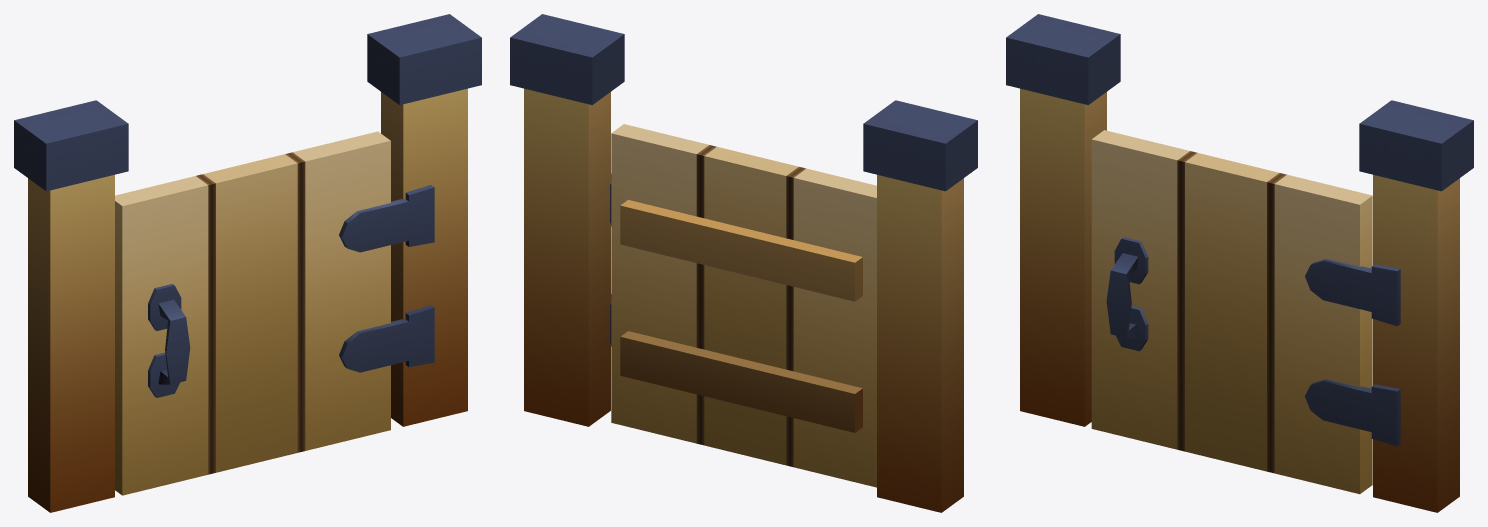
Rendered from Fence_01_DoorA.fbx.
3 views of the same model, side by side, from view 1: azimuth 30°, elevation 25°; view 2: azimuth 150°, elevation 25°; view 3: azimuth 330°, elevation 25° (orthographic).
Parts seen in each view (by area): view 1: Fence_01_DoorA; view 2: Fence_01_DoorA; view 3: Fence_01_DoorA.
Boxes of the visible parts, box(x1,y1,x2,y2) form: Fence_01_DoorA: box(14, 14, 481, 512); Fence_01_DoorA: box(510, 14, 977, 512); Fence_01_DoorA: box(1006, 14, 1473, 512).
Size of the model in its own units: 143 by 118 by 23.85.
2 materials, 2 textured.
